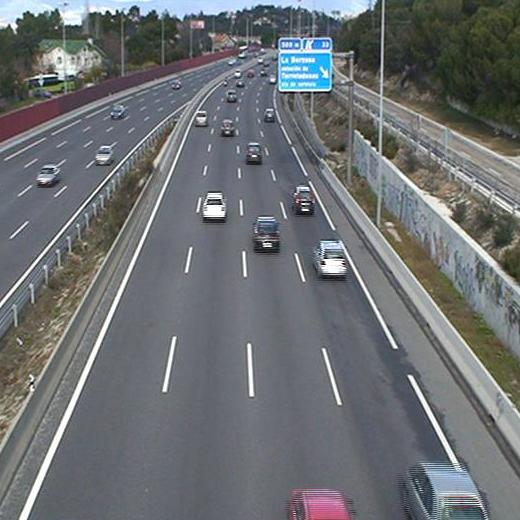car: (313, 241, 346, 276), (254, 216, 281, 252), (291, 186, 315, 215), (202, 192, 226, 220), (245, 142, 262, 163), (219, 119, 234, 137), (194, 111, 208, 127), (263, 108, 277, 123), (226, 91, 237, 104)
